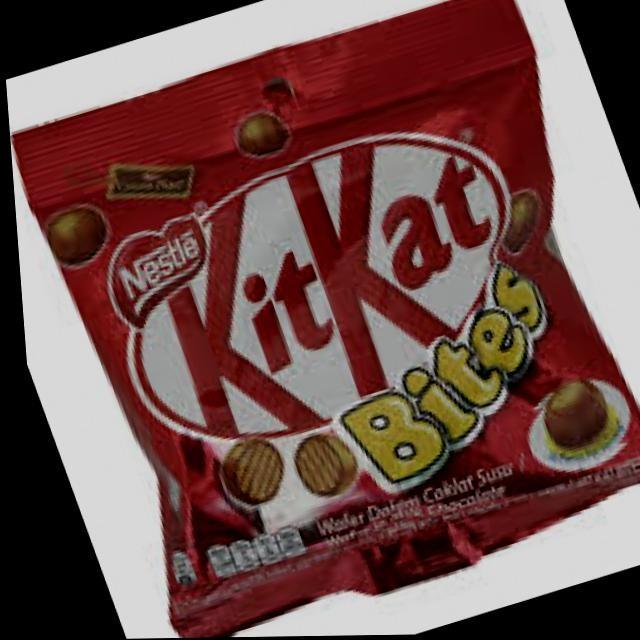kitkat_chocolate: (38, 104, 640, 546)
